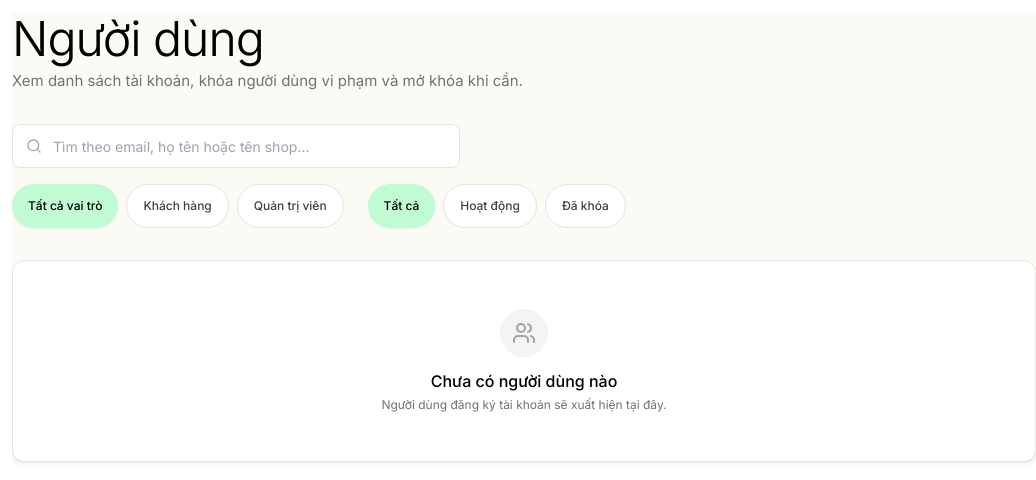
Scenario: AdminUserPage › đang lọc mà không có kết quả: thông báo không tìm thấy, ẩn phân trang
Click the button "Đã khóa": (585, 206) x1=545 y1=184 x2=626 y2=228
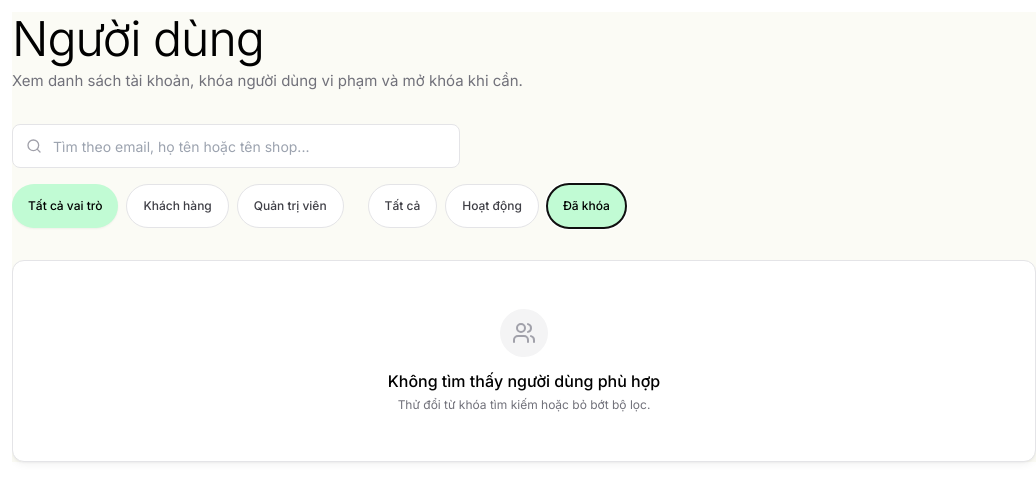
Check: the heading "Không tìm thấy người dùng phù hợp" is shown, box x1=388 y1=371 x2=660 y2=391
